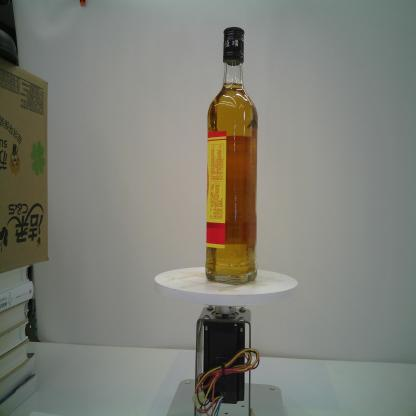Seasoner: (203, 23, 260, 287)
